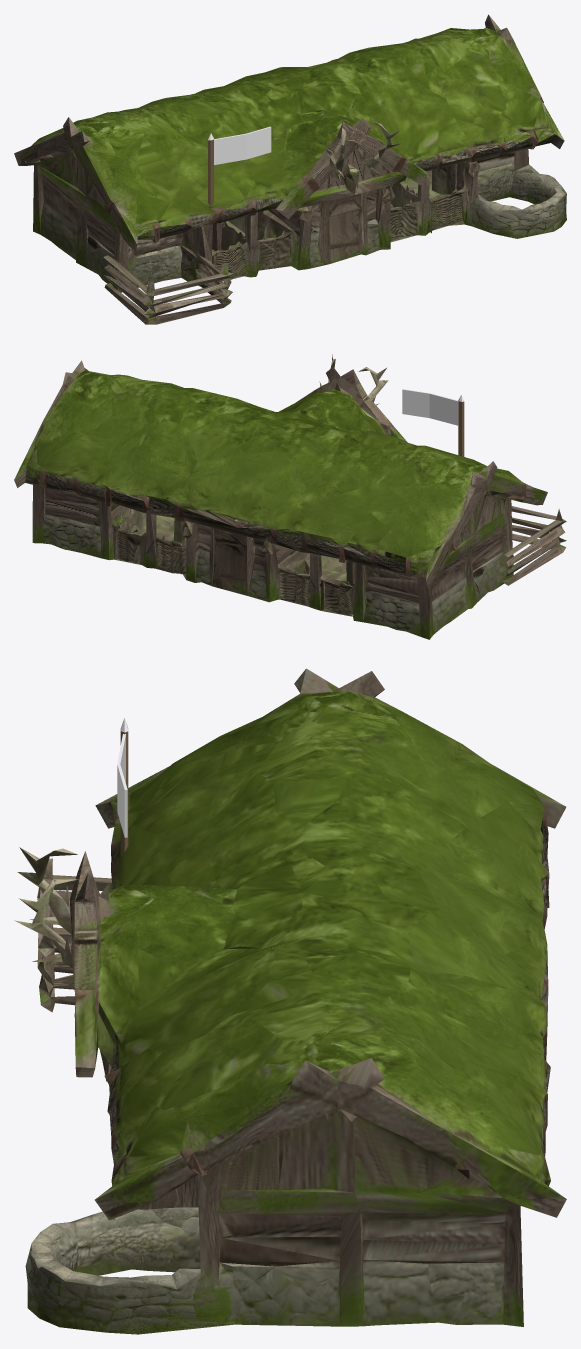
3 views of the same model, one above another, from view 1: azimuth 30°, elevation 25°; view 2: azimuth 150°, elevation 25°; view 3: azimuth 270°, elevation 25° (orthographic). The views are drawn at different scales.
Parts seen in each view (by area): view 1: sylvan_beast_lodge, Team_banner; view 2: sylvan_beast_lodge, Team_banner; view 3: sylvan_beast_lodge, Team_banner.
Boxes of the visible parts, left/top/right/bottom form: sylvan_beast_lodge: left=14, top=14, right=566, bottom=324; Team_banner: left=208, top=126, right=271, bottom=205; sylvan_beast_lodge: left=14, top=354, right=566, bottom=639; Team_banner: left=402, top=389, right=464, bottom=456; sylvan_beast_lodge: left=14, top=668, right=566, bottom=1334; Team_banner: left=117, top=718, right=128, bottom=855.
Bounding box in the file's own units: 1.9 × 0.6536 × 1.09.
3 materials, 1 textured.
